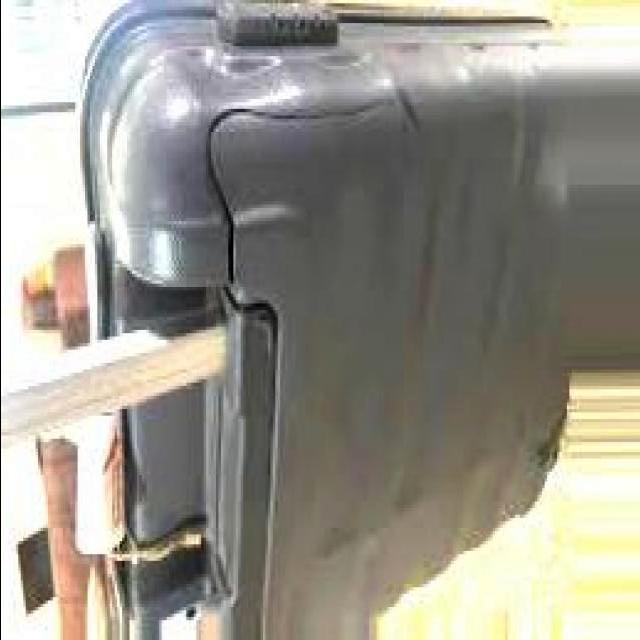Damage-bag: (207, 106, 371, 300), (521, 378, 565, 510)
